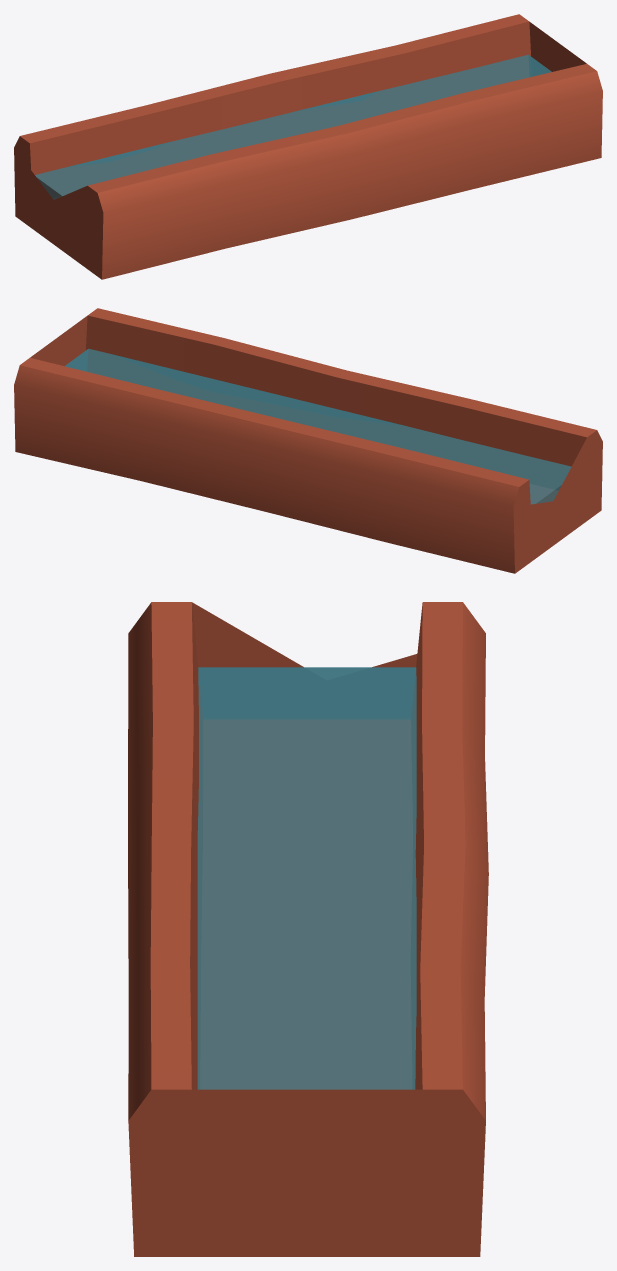
The model's file is deco_irrigation_straight.fbx.
3 views of the same model, one above another, from view 1: azimuth 30°, elevation 25°; view 2: azimuth 150°, elevation 25°; view 3: azimuth 270°, elevation 25° (orthographic). The views are drawn at different scales.
Parts seen in each view (by area): view 1: Irrigation_Straight_Trough, Irrigation_Straight_Water; view 2: Irrigation_Straight_Trough, Irrigation_Straight_Water; view 3: Irrigation_Straight_Trough, Irrigation_Straight_Water.
Part boxes in pixels (x1,y1,x2,y2): Irrigation_Straight_Trough: (14,14,602,279); Irrigation_Straight_Water: (35,54,551,199); Irrigation_Straight_Trough: (14,308,602,573); Irrigation_Straight_Water: (65,348,571,504); Irrigation_Straight_Trough: (128,602,488,1256); Irrigation_Straight_Water: (197,667,416,1089).
Bounding box in the file's own units: 200 × 32.65 × 62.54.
